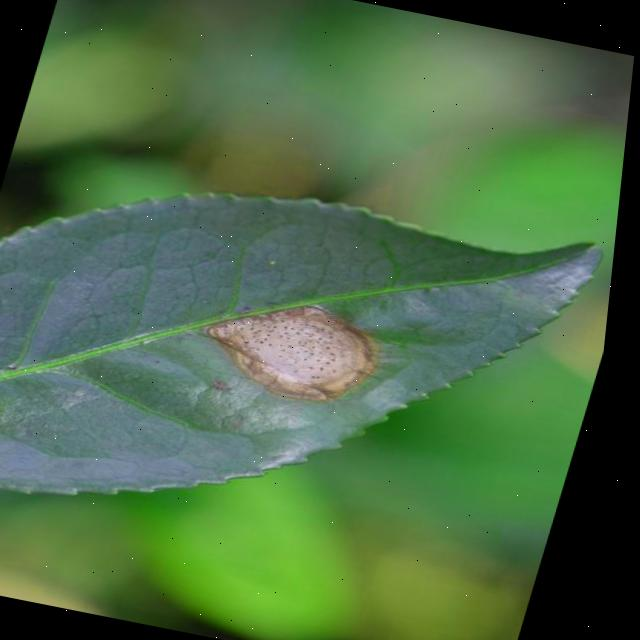Tea cloud leaf blight: (187, 282, 414, 428)
